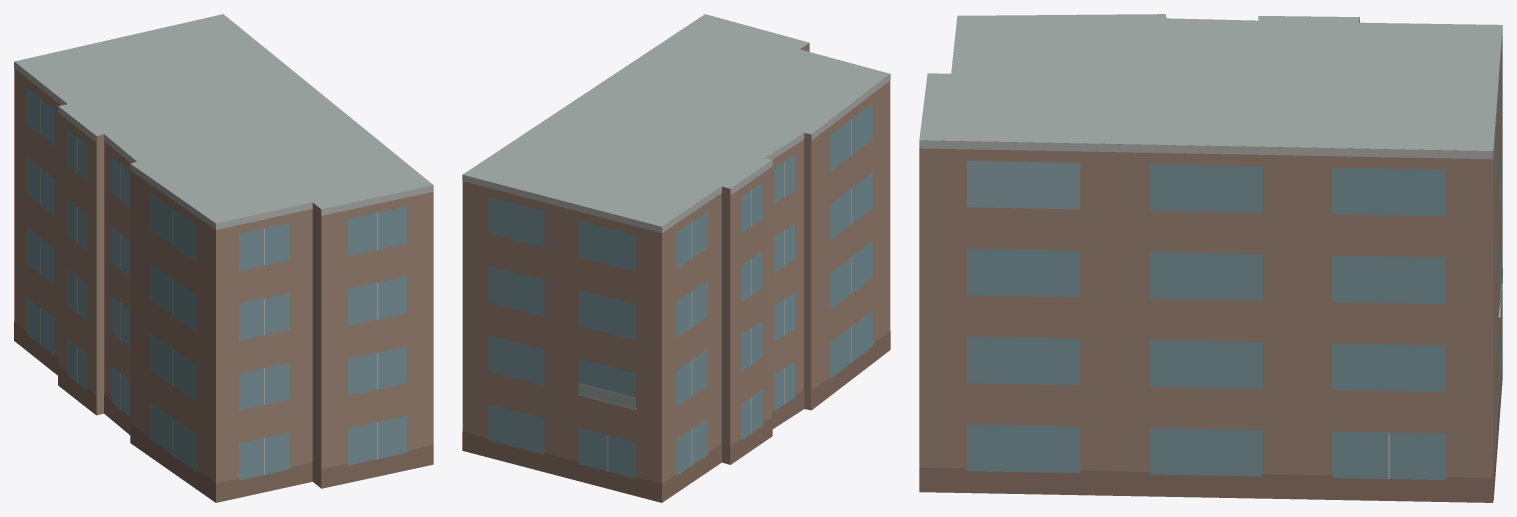
Rendered from survey-upis-32585353.glb.
3 renders of one model, left to right at view 1: azimuth 30°, elevation 25°; view 2: azimuth 150°, elevation 25°; view 3: azimuth 270°, elevation 25°, orthographic. The views are drawn at different scales.
Parts seen in each view (by area): view 1: survey-upis-32585353.tmp; view 2: survey-upis-32585353.tmp; view 3: survey-upis-32585353.tmp.
Boxes of the visible parts, left/top/right/bottom form: survey-upis-32585353.tmp: left=14, top=14, right=433, bottom=502; survey-upis-32585353.tmp: left=462, top=14, right=890, bottom=502; survey-upis-32585353.tmp: left=919, top=14, right=1502, bottom=502.
Size of the model in its own units: 8.79 by 10.51 by 15.81.
